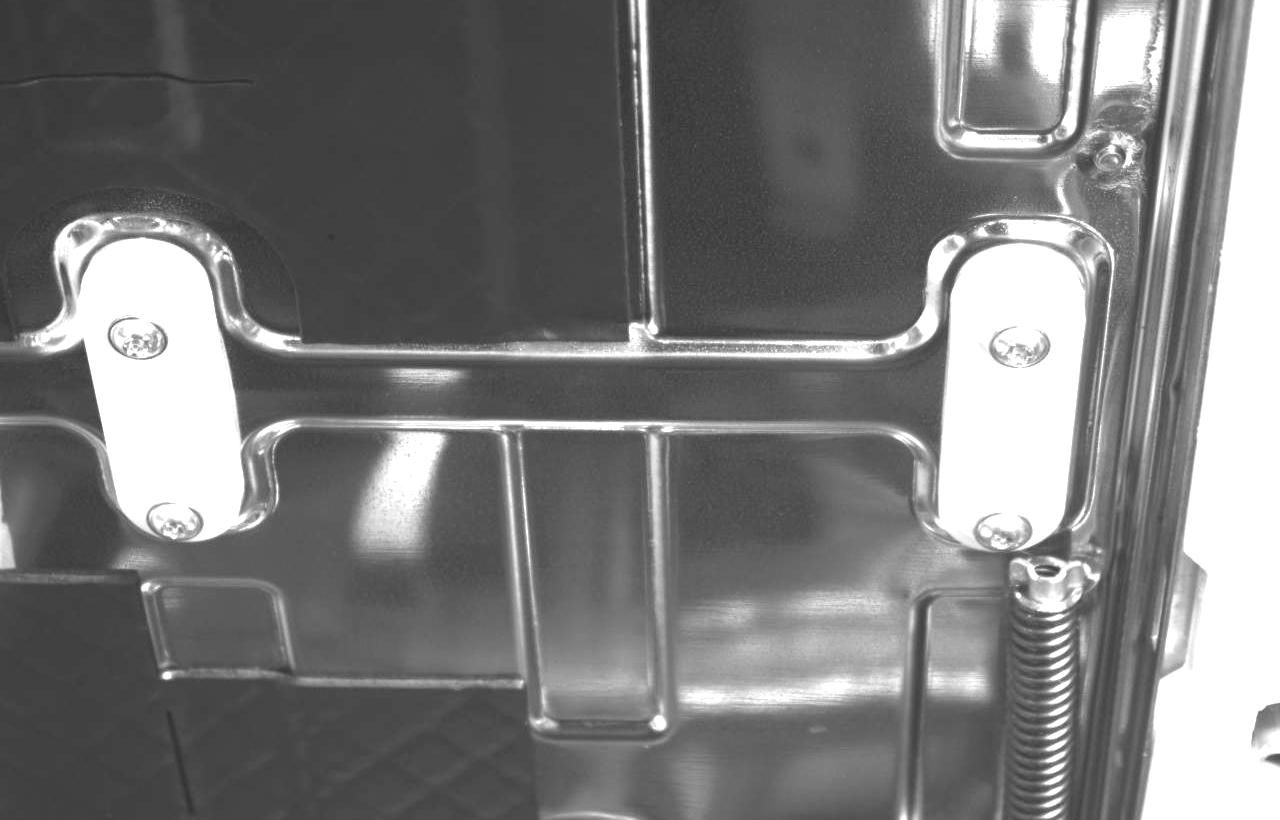vida-ok: (102, 304, 189, 382), (966, 312, 1054, 385), (132, 487, 212, 552), (955, 506, 1030, 565)
